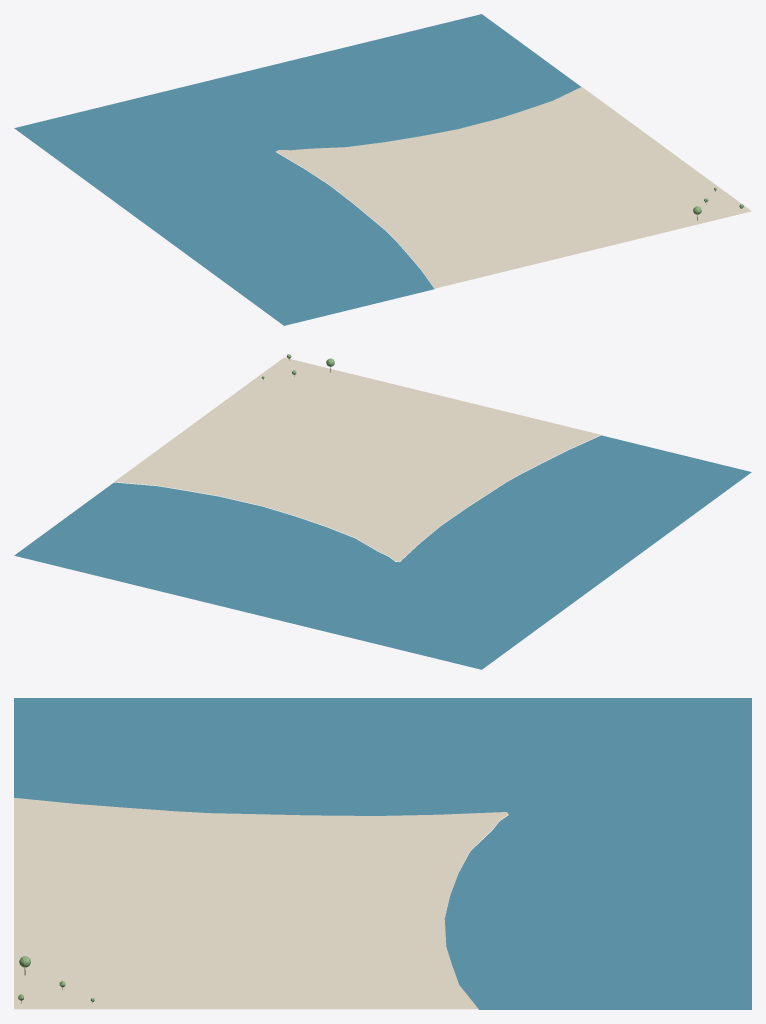
Rendered from nature_3_5.glb.
3 views of the same model, one above another, from view 1: azimuth 30°, elevation 25°; view 2: azimuth 150°, elevation 25°; view 3: azimuth 270°, elevation 25° (orthographic). The views are drawn at different scales.
Parts seen in each view (by area): view 1: water, ground; view 2: water, ground; view 3: water, ground.
Boxes of the visible parts, bbox=[...] form: water: bbox=[14, 14, 580, 325]; ground: bbox=[276, 87, 751, 288]; water: bbox=[14, 435, 751, 669]; ground: bbox=[114, 357, 600, 561]; water: bbox=[14, 698, 751, 1009]; ground: bbox=[14, 797, 508, 1009].
Bounding box in the file's own units: 250 × 7.34 × 250.
